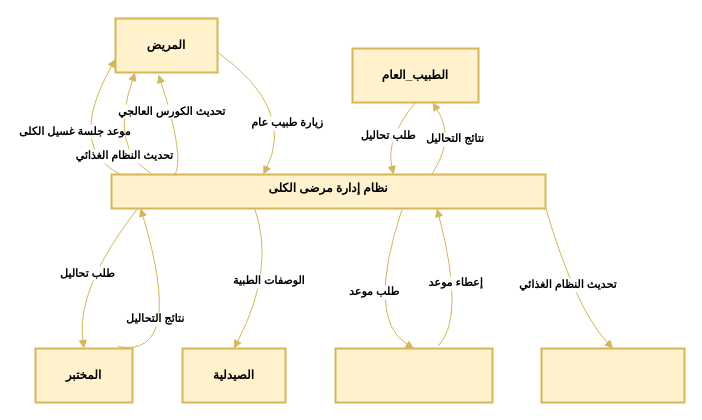
Image size: 702x420. Some labels were removed from this diagram. The shapes that lost their labels are listed below. From the top down, each one's centre as x and y in pixels, then its label:
[413,375]: وحدة_غسيل_الكلى
[612,375]: أخصائي_التغذية
